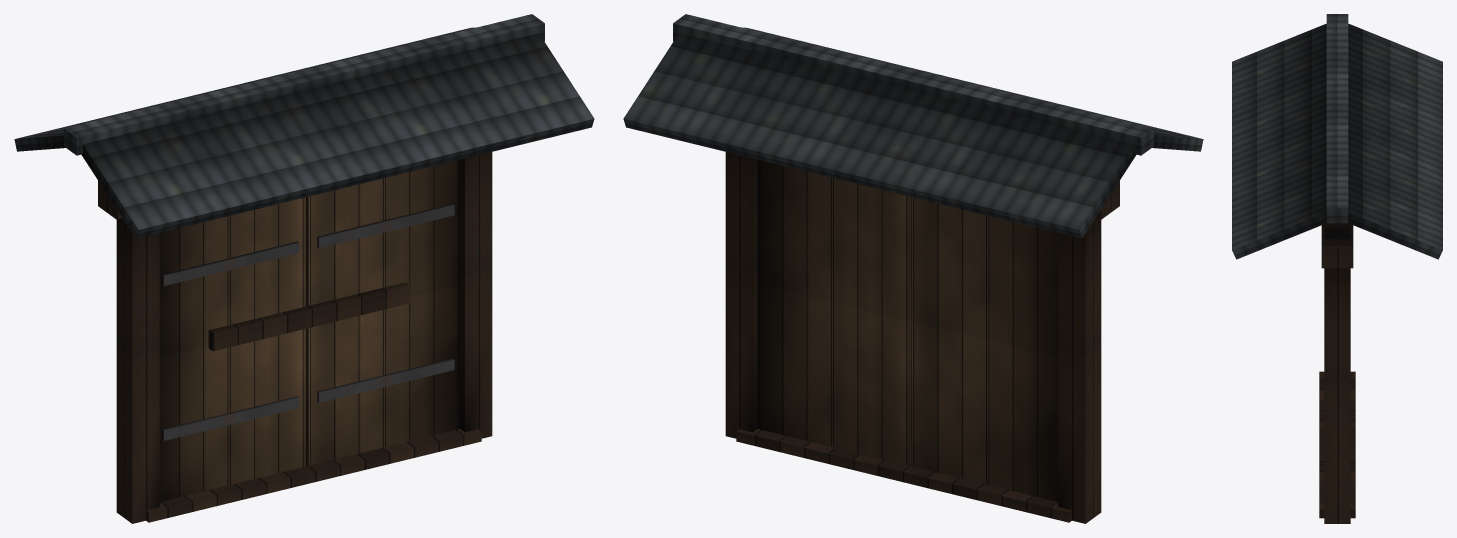
File: shrine_gate.glb
The picture shows the model from 3 angles, left to right: view 1: azimuth 30°, elevation 25°; view 2: azimuth 150°, elevation 25°; view 3: azimuth 270°, elevation 25°; orthographic projection. The views are drawn at different scales.
Visible parts, largest first — view 1: shrine_gate; view 2: shrine_gate; view 3: shrine_gate.
Part boxes in pixels (<box>): shrine_gate: <box>14,14,594,523</box>; shrine_gate: <box>623,14,1203,523</box>; shrine_gate: <box>1232,14,1442,523</box>.
Bounding box in the file's own units: 3.8 × 3.09 × 1.74.
Materials: 4 (4 with a texture image).
